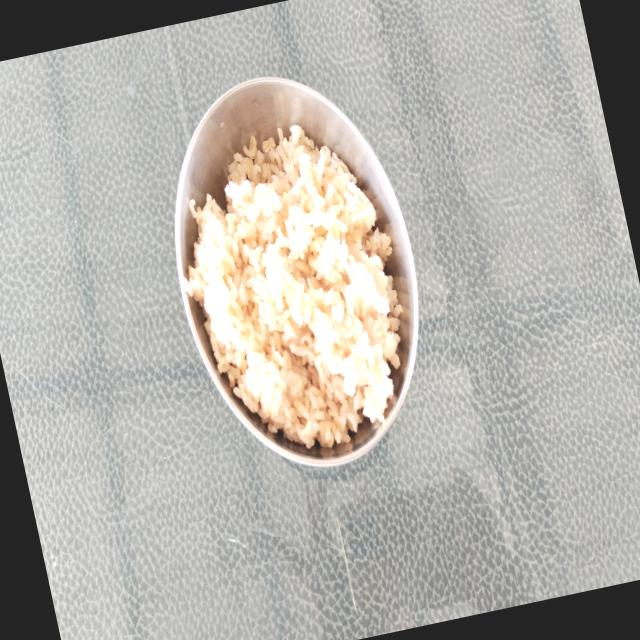brown-rice: (181, 125, 401, 447)
